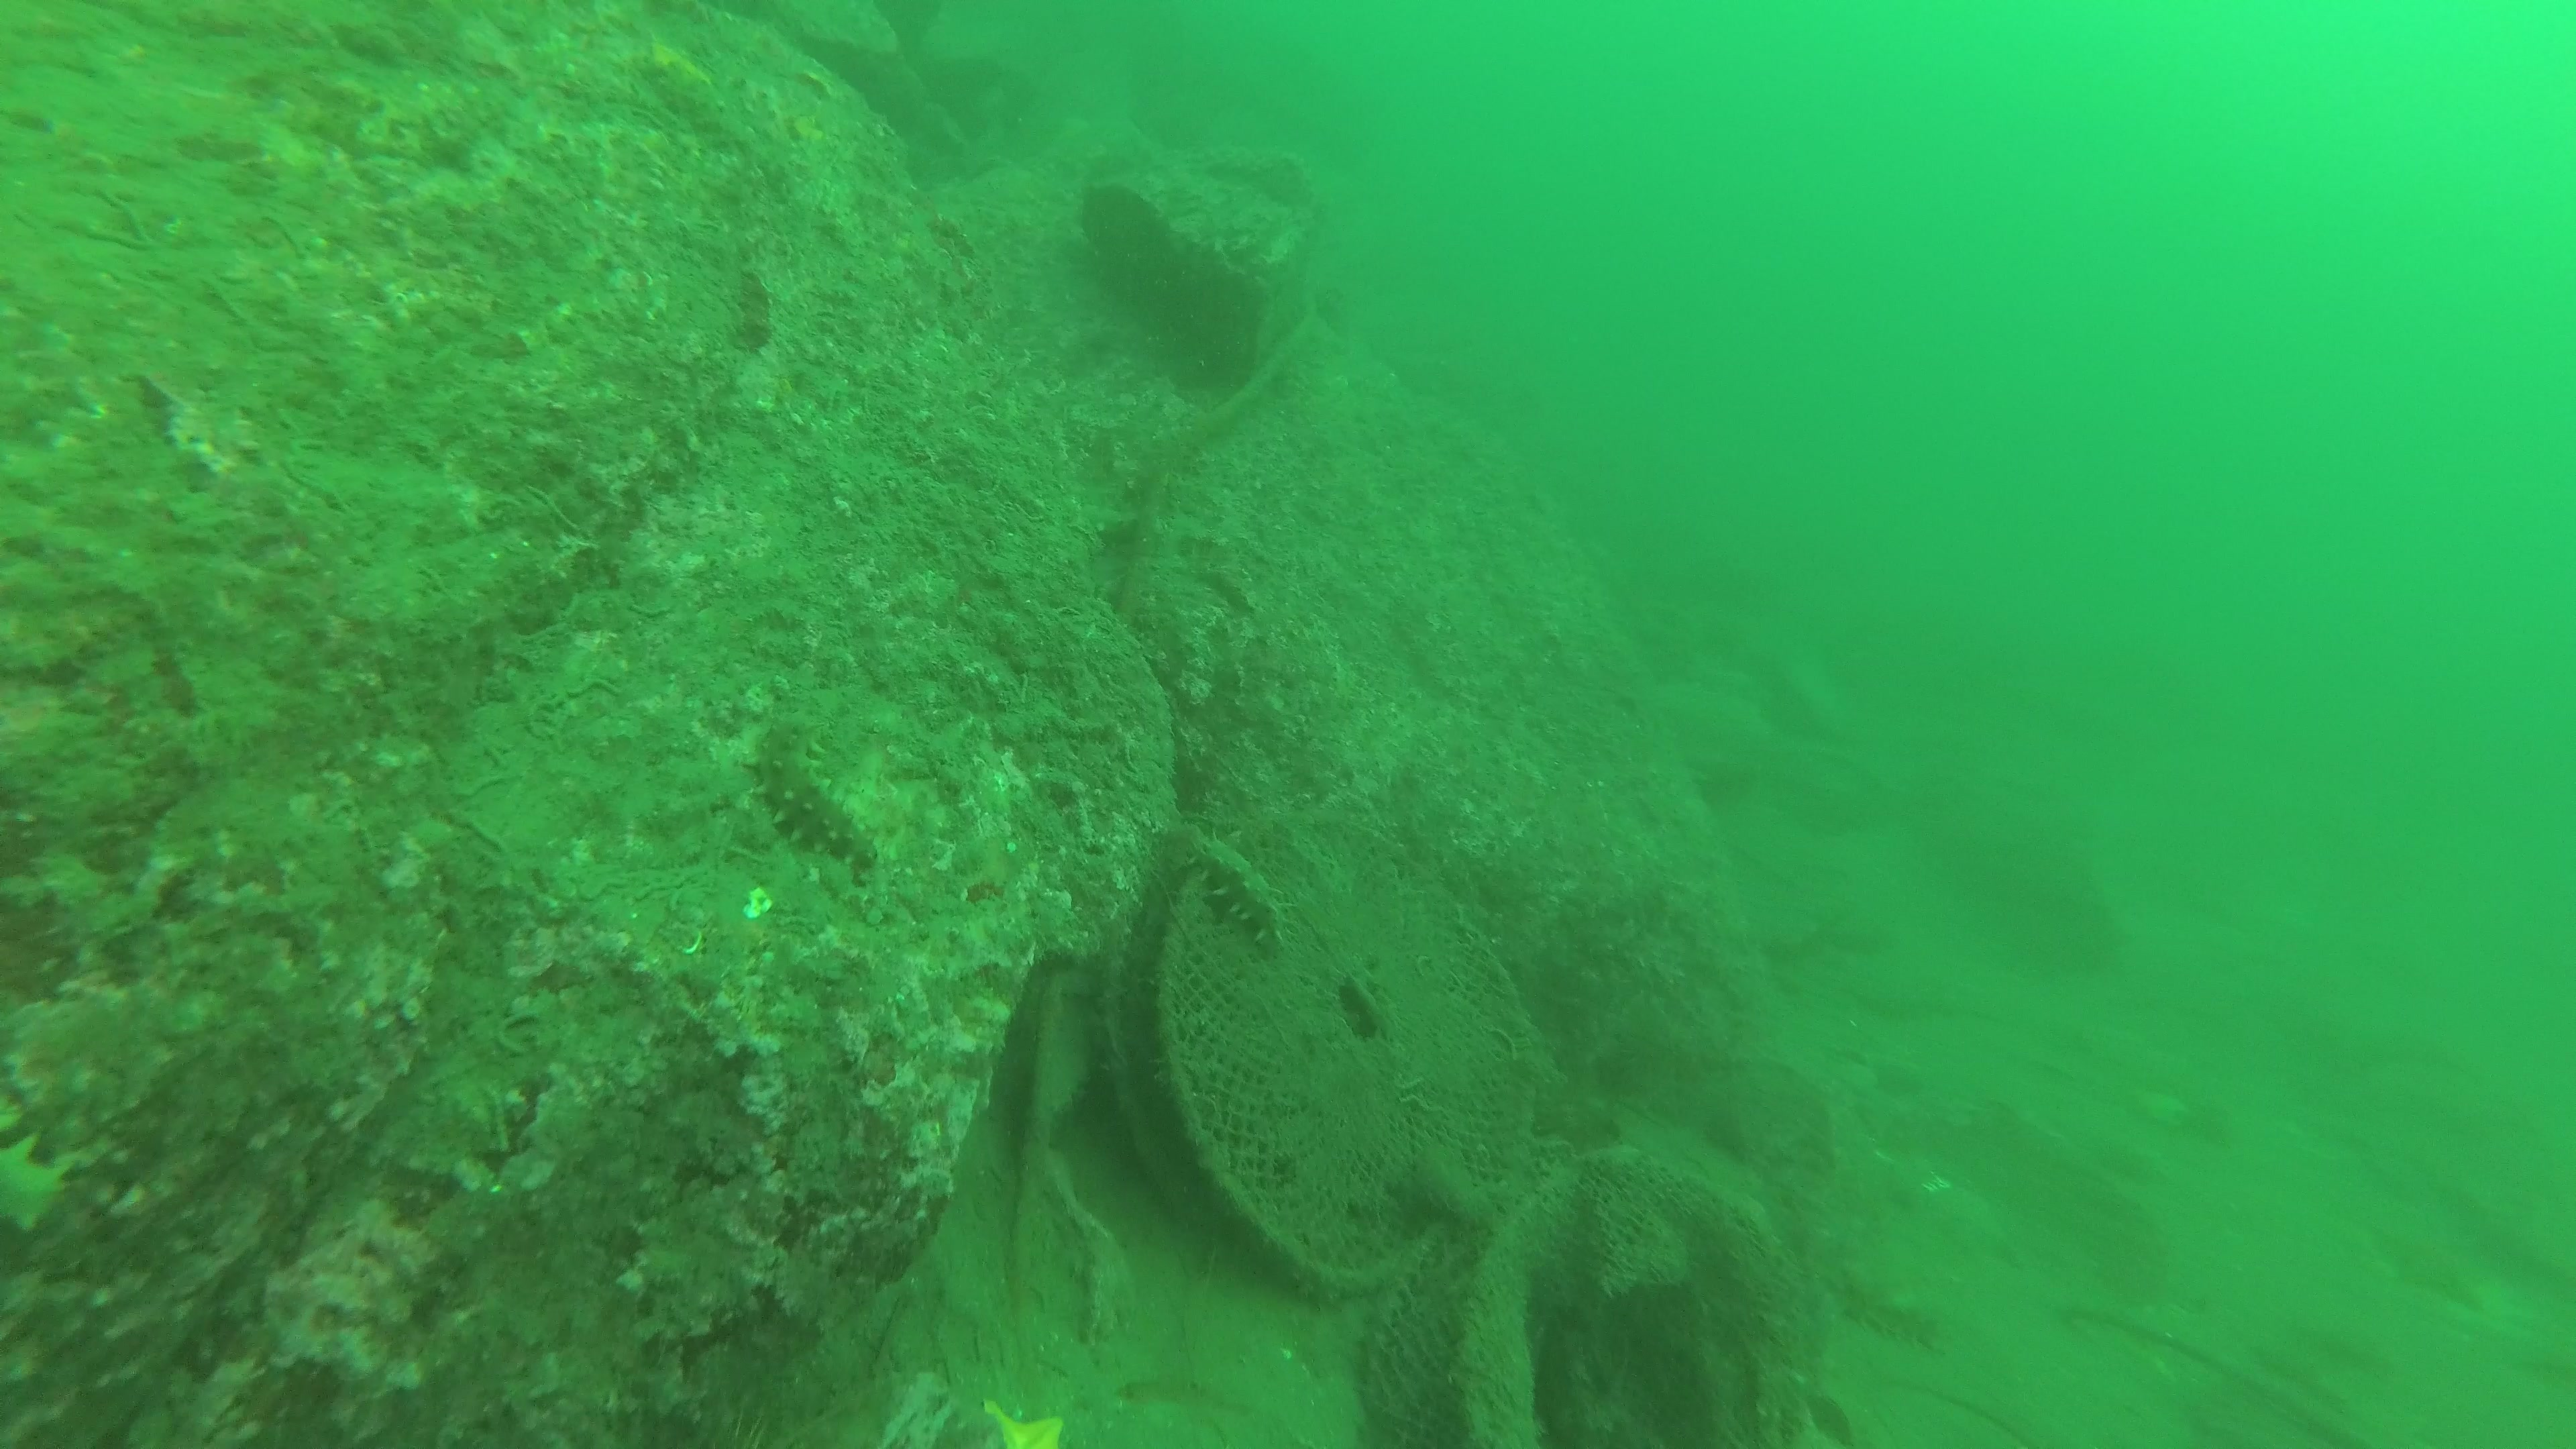echinus: (1614, 1024, 1693, 1095)
holothurian: (745, 713, 879, 872), (1187, 832, 1295, 952), (1822, 1265, 1941, 1353)
starfish: (970, 1396, 1065, 1449)
